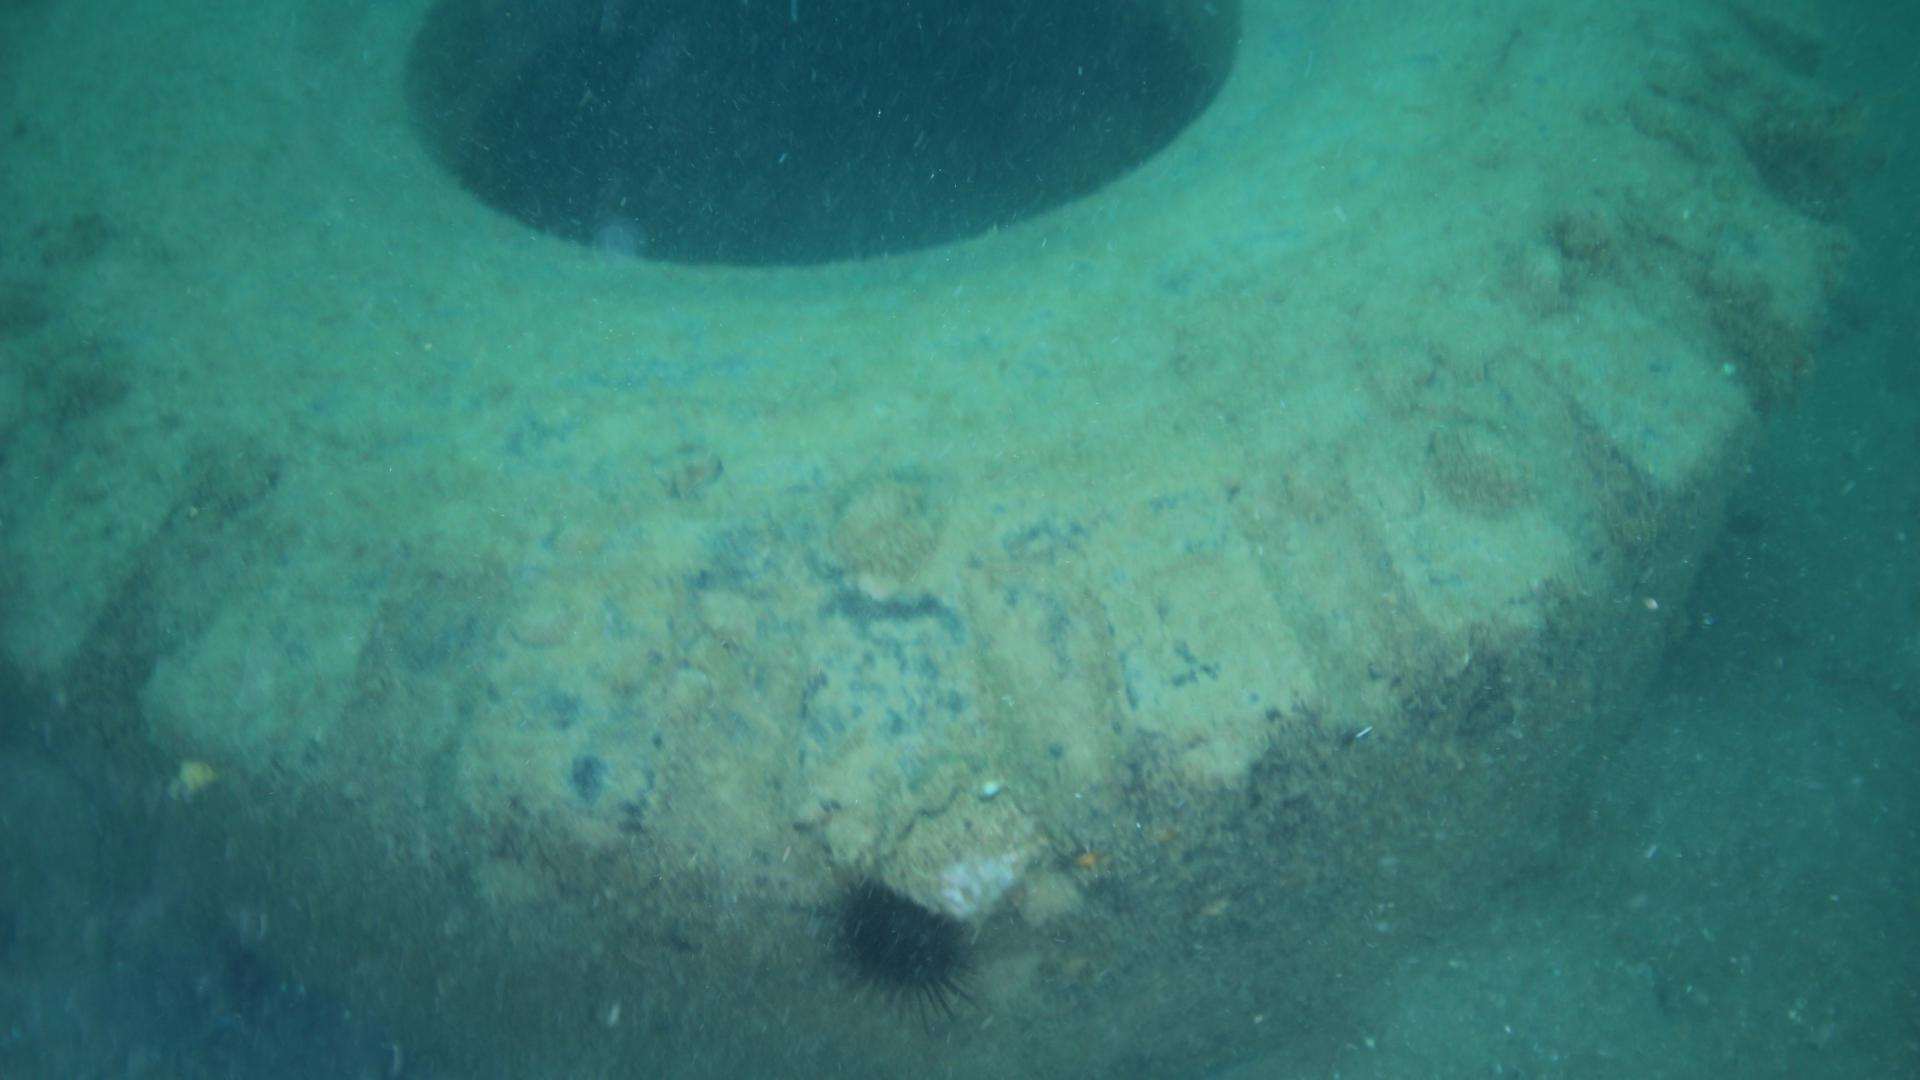tire: (0, 0, 1861, 1080)
